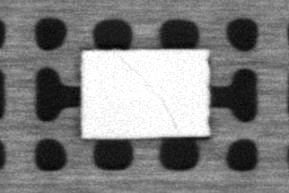DIE_CRACK: (120, 58, 182, 134)
